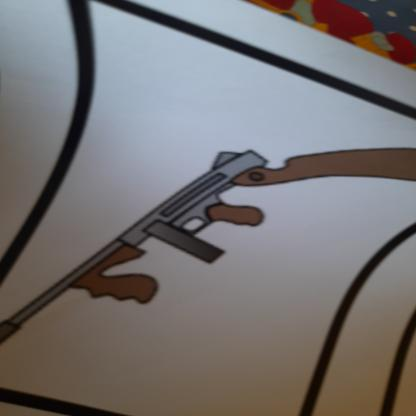Bootlegger: (1, 120, 416, 392)
